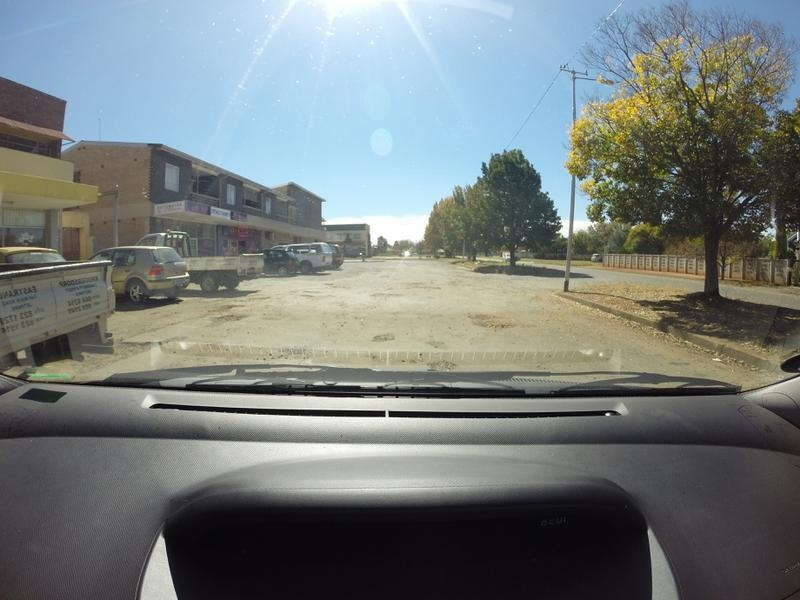pothole: (468, 316, 516, 332), (417, 357, 459, 371), (364, 330, 396, 346)
